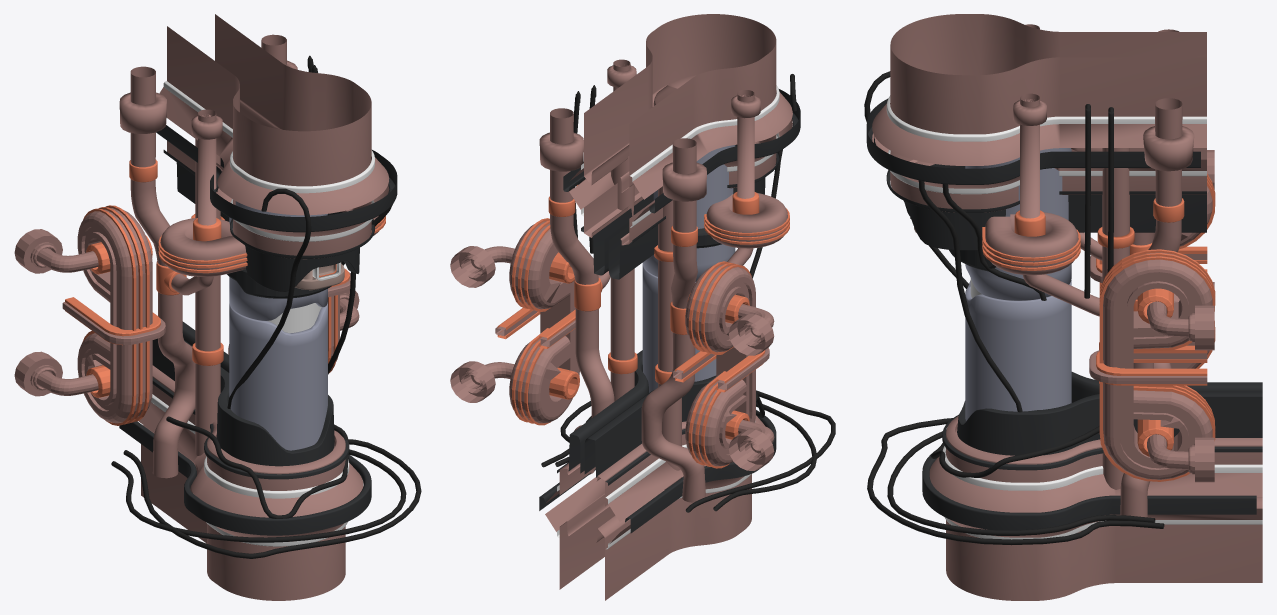
The model's file is Player_cabine.fbx.
3 views of the same model, side by side, from view 1: azimuth 30°, elevation 25°; view 2: azimuth 150°, elevation 25°; view 3: azimuth 270°, elevation 25° (orthographic). The views are drawn at different scales.
Visible parts, largest first — view 1: top_base_cabine, base_cabine, pipes_cabine, bobine_cabine, cabine, wires cabine, circle_cabine, receptor_cabine, vitre_cabine; view 2: pipes_cabine, top_base_cabine, bobine_cabine, base_cabine, cabine, wires cabine; view 3: top_base_cabine, base_cabine, bobine_cabine, pipes_cabine, cabine, wires cabine.
Boxes of the visible parts, left/top/right/bottom form: top_base_cabine: left=156, top=14, right=397, bottom=291; base_cabine: left=119, top=321, right=371, bottom=600; pipes_cabine: left=119, top=34, right=385, bottom=478; bobine_cabine: left=14, top=205, right=359, bottom=425; cabine: left=229, top=156, right=327, bottom=450; wires cabine: left=111, top=55, right=421, bottom=558; circle_cabine: left=226, top=262, right=341, bottom=298; receptor_cabine: left=295, top=262, right=344, bottom=290; vitre_cabine: left=268, top=303, right=321, bottom=333; pipes_cabine: left=539, top=59, right=789, bottom=502; top_base_cabine: left=563, top=14, right=800, bottom=279; bobine_cabine: left=450, top=218, right=774, bottom=470; base_cabine: left=539, top=350, right=776, bottom=600; cabine: left=642, top=145, right=735, bottom=392; wires cabine: left=541, top=74, right=835, bottom=512; top_base_cabine: left=866, top=14, right=1206, bottom=250; base_cabine: left=922, top=372, right=1262, bottom=600; bobine_cabine: left=1089, top=150, right=1215, bottom=482; pipes_cabine: left=982, top=24, right=1194, bottom=526; cabine: left=965, top=148, right=1071, bottom=421; wires cabine: left=864, top=71, right=1164, bottom=545.
Bounding box in the file's own units: 735 × 1022 × 702.
